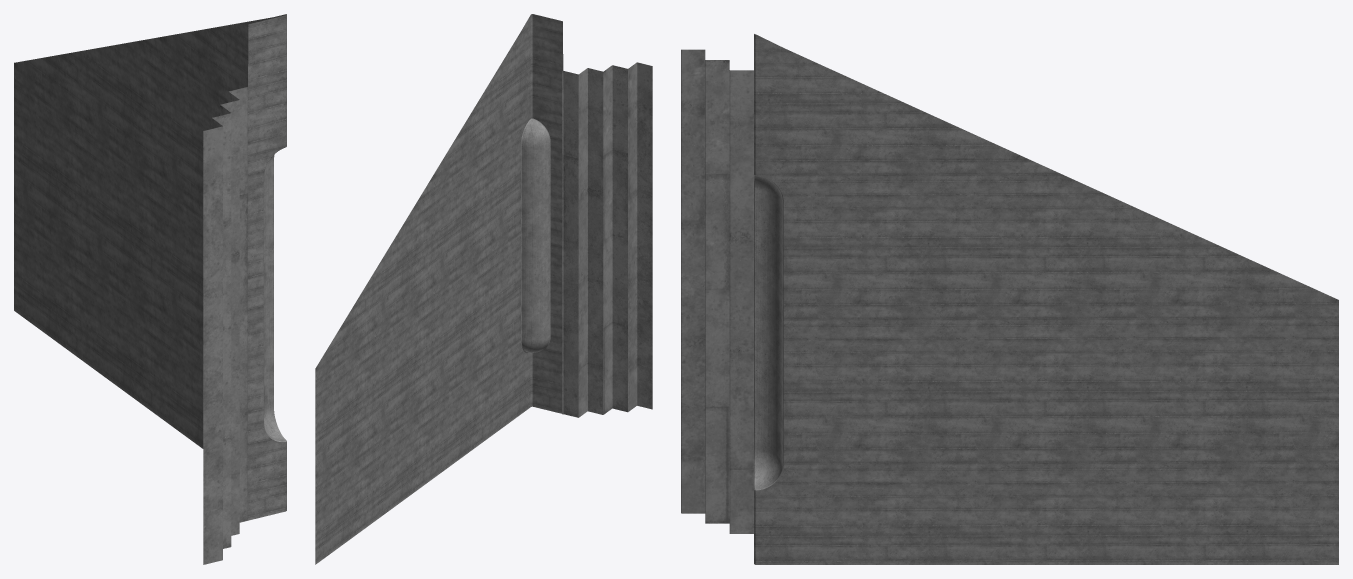
File: SM_Wall_22.fbx
3 renders of one model, left to right at view 1: azimuth 30°, elevation 25°; view 2: azimuth 150°, elevation 25°; view 3: azimuth 270°, elevation 25°, orthographic. The views are drawn at different scales.
Parts seen in each view (by area): view 1: SM_Wall_22; view 2: SM_Wall_22; view 3: SM_Wall_22.
Boxes of the visible parts, x1,y1,x2,y2 form: SM_Wall_22: (14, 14, 286, 564); SM_Wall_22: (315, 14, 652, 564); SM_Wall_22: (681, 34, 1338, 564).
Size of the model in its own units: 200 by 801 by 900.
